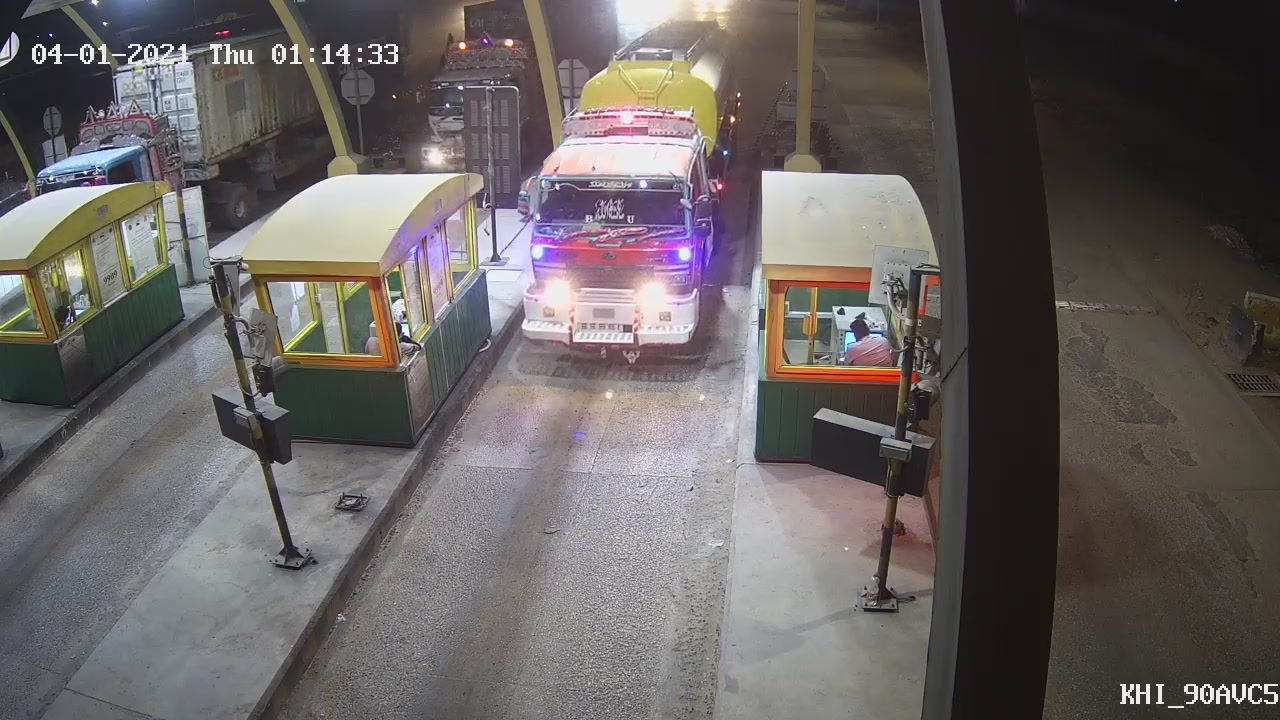F6: (506, 19, 748, 374)
